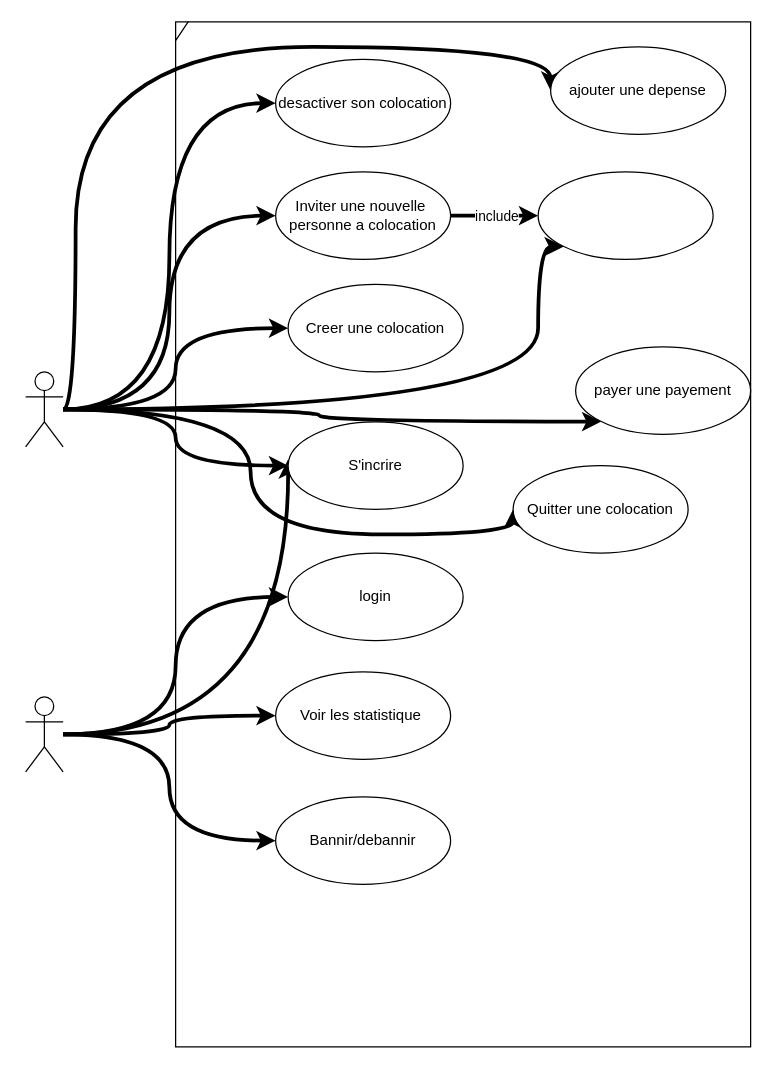
Image size: 773x1069. Some labels were removed from this diagram. Here are the shapes that lost their labels. From the top down, the centre of each, then its label:
the point at 625,215: Join une colocation
the point at 43,409: USer
the point at 43,734: ADmin
